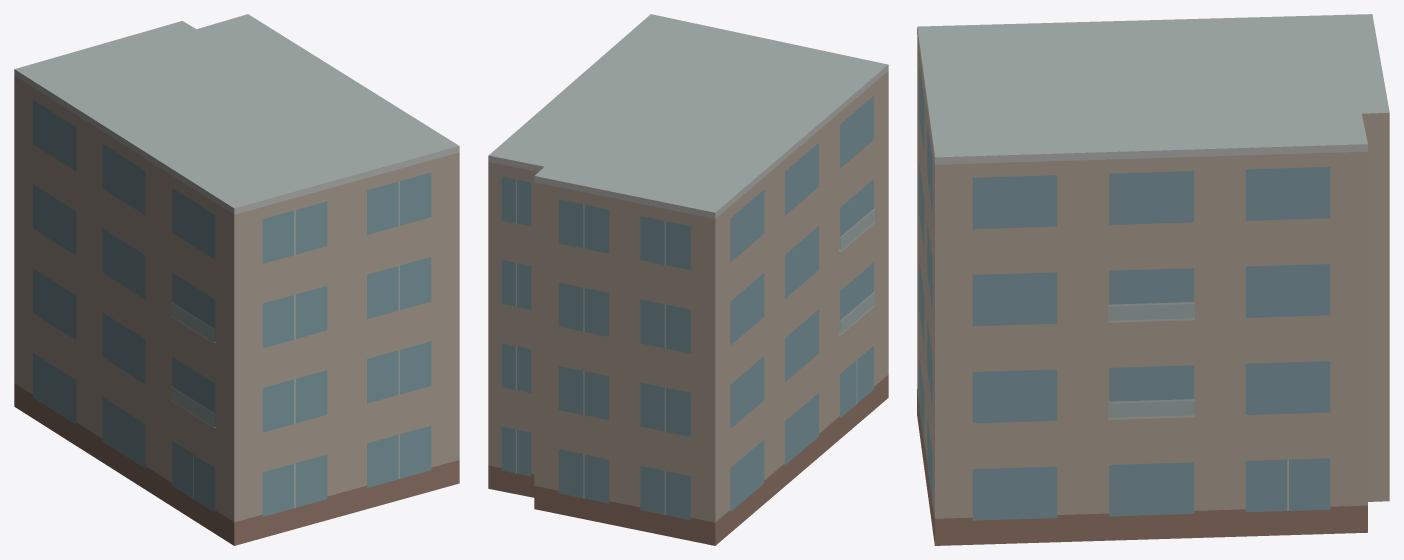
The model's file is survey-upis-32976621.glb.
The picture shows the model from 3 angles, left to right: view 1: azimuth 30°, elevation 25°; view 2: azimuth 150°, elevation 25°; view 3: azimuth 270°, elevation 25°; orthographic projection. The views are drawn at different scales.
Parts seen in each view (by area): view 1: survey-upis-32976621.tmp; view 2: survey-upis-32976621.tmp; view 3: survey-upis-32976621.tmp.
Part boxes in pixels (x1,y1,x2,y2): survey-upis-32976621.tmp: (14,14,459,545); survey-upis-32976621.tmp: (488,14,888,545); survey-upis-32976621.tmp: (917,14,1389,545).
Bounding box in the file's own units: 10.22 × 12.9 × 14.23.
